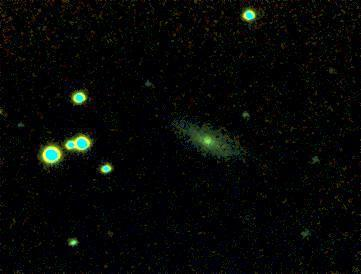star: (314, 56, 344, 86)
